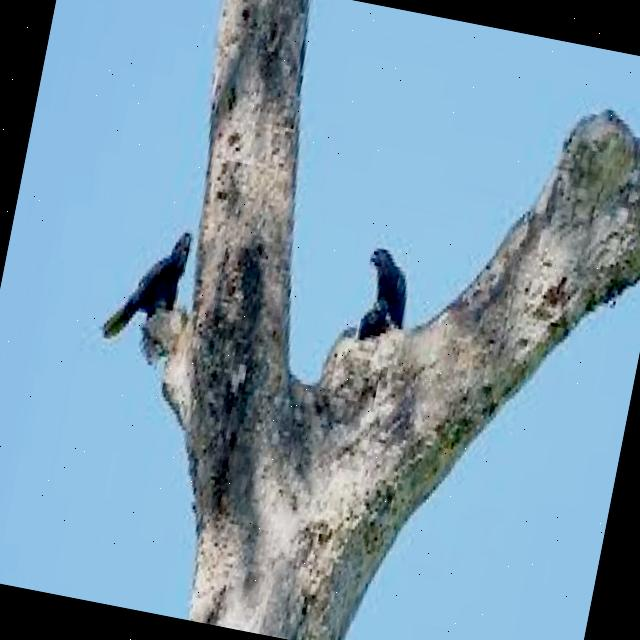Nuri Hitam: (88, 203, 205, 361), (335, 234, 425, 354)
